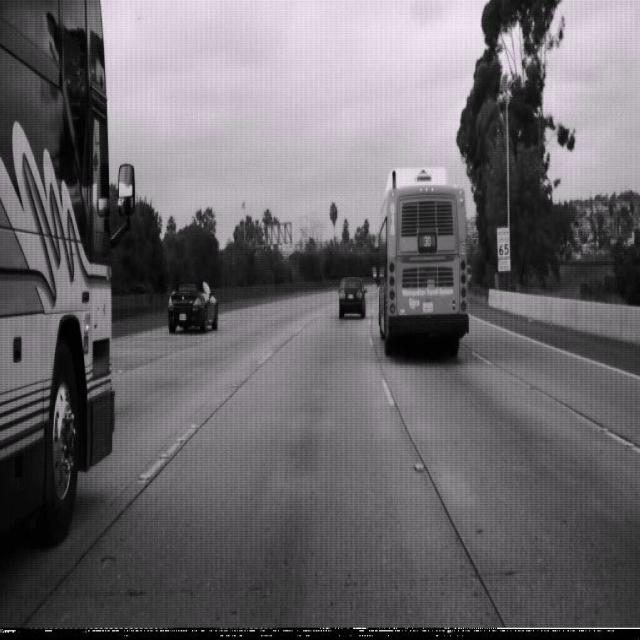speedLimit65: (496, 224, 510, 260)
